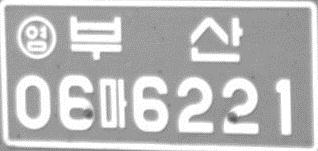0: (14, 73, 51, 131)
1: (265, 77, 301, 136)
2: (176, 76, 215, 134), (221, 77, 260, 134)
6: (131, 74, 169, 133), (57, 73, 95, 131)
마: (98, 77, 127, 131)
부산_D: (67, 13, 245, 62)
영: (15, 14, 57, 61)
